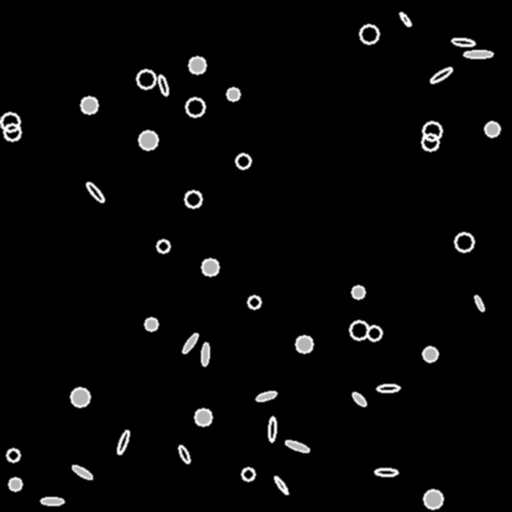pseudomonas: (85, 180, 105, 204), (70, 463, 94, 481), (429, 66, 453, 84), (181, 332, 199, 354), (116, 430, 130, 454), (285, 439, 309, 453), (273, 475, 289, 495), (177, 444, 191, 464), (255, 390, 277, 402), (157, 74, 169, 96), (351, 391, 367, 407), (451, 37, 475, 47), (398, 11, 412, 27), (464, 50, 492, 58), (473, 294, 485, 312), (268, 416, 276, 442), (201, 343, 209, 365), (374, 469, 398, 475), (377, 385, 399, 391), (41, 498, 63, 504)
synechocystis: (424, 490, 442, 508), (137, 70, 155, 88), (186, 98, 204, 116), (1, 113, 19, 131), (423, 122, 441, 140), (455, 233, 473, 251), (360, 25, 378, 43), (350, 321, 368, 339), (71, 388, 89, 406), (139, 131, 157, 149), (189, 57, 205, 73), (81, 97, 97, 113), (296, 336, 312, 352), (202, 259, 218, 275), (185, 191, 201, 207), (422, 134, 438, 150), (4, 124, 20, 140), (195, 409, 211, 425), (367, 326, 381, 340), (485, 122, 499, 136), (423, 347, 437, 361), (236, 154, 250, 168), (7, 449, 19, 461), (157, 240, 169, 252), (145, 318, 157, 330), (242, 468, 254, 480), (248, 296, 260, 308), (9, 478, 21, 490), (227, 88, 239, 100), (352, 286, 364, 298)
